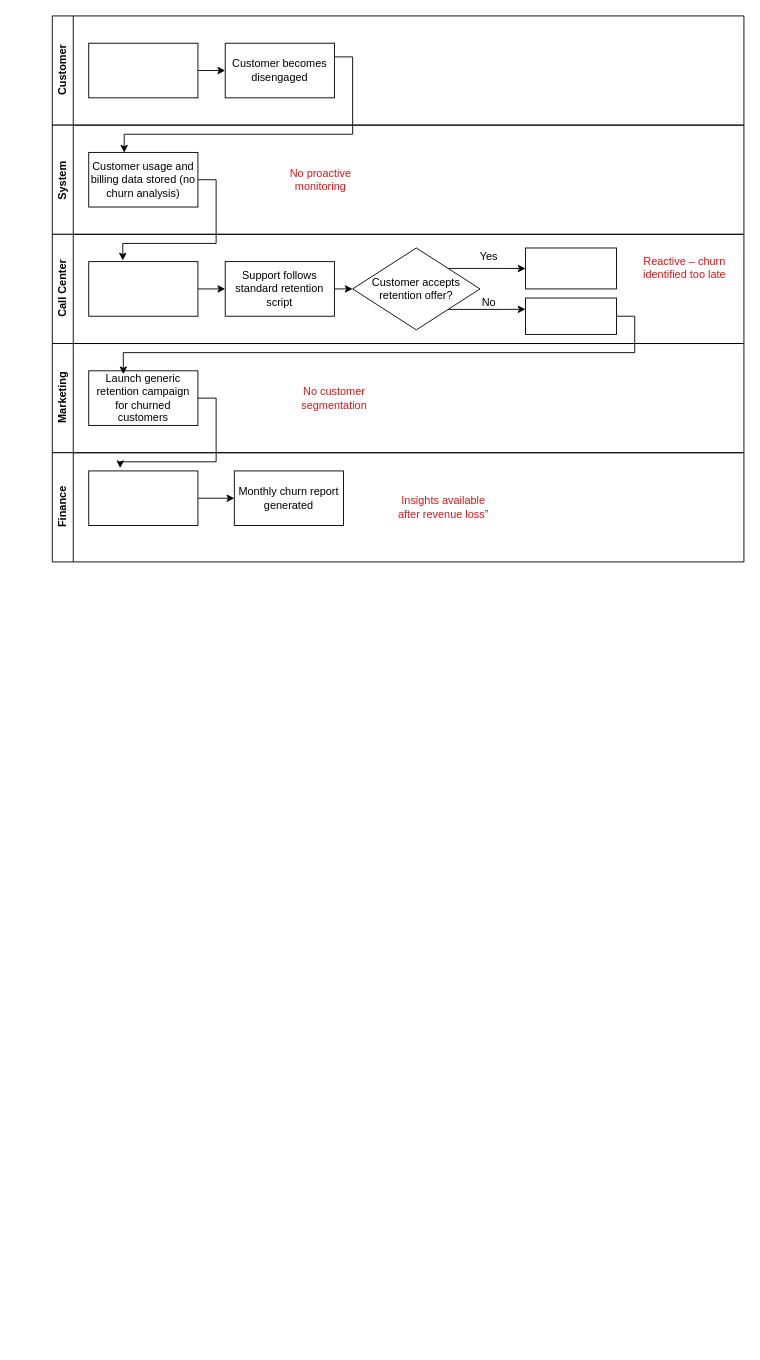
The diagram is 760 pixels wide and 1360 high, and some of its shapes have lost their labels. Here are the shapes that lost their labels. From the top down, the centre of each, then its label:
pixel 143 70: Customer experiences service or price dissatisfaction
pixel 143 288: Customer contacts support / requests cancellation
pixel 571 268: Customer retained (no follow-up tracking)
pixel 571 315: Cancellation processed
pixel 143 498: Revenue loss recorded
